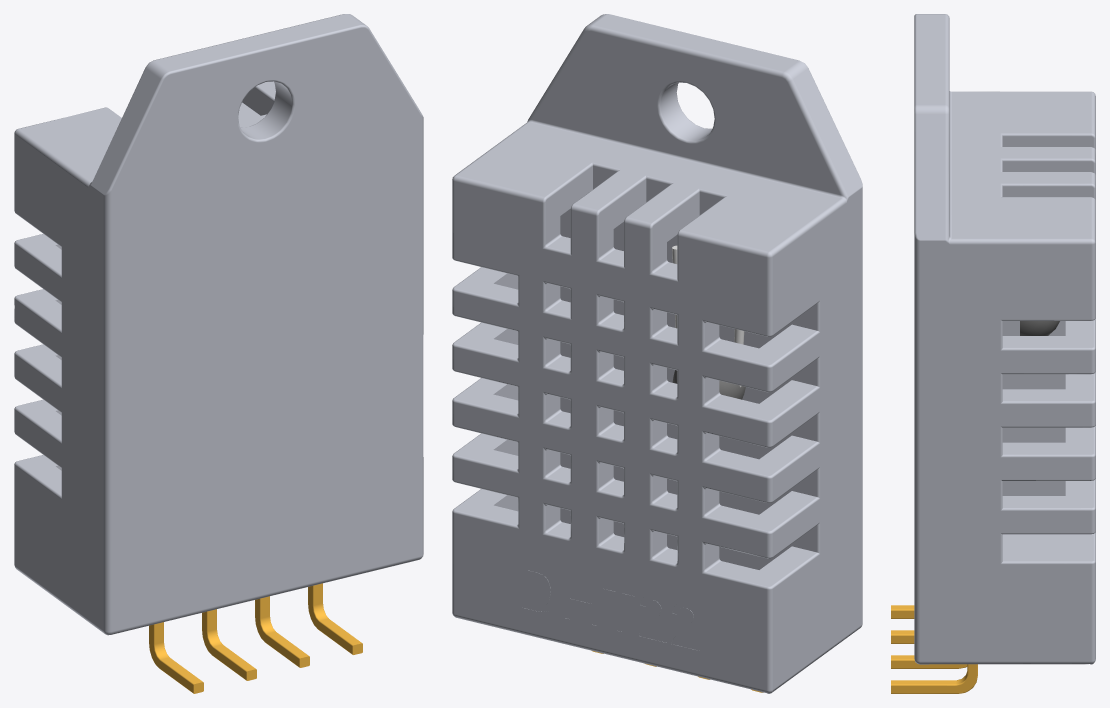
The model's file is dht22.glb.
3 views of the same model, side by side, from view 1: azimuth 30°, elevation 25°; view 2: azimuth 150°, elevation 25°; view 3: azimuth 270°, elevation 25° (orthographic). The views are drawn at different scales.
Size of the model in its own units: 1.53 by 2.82 by 0.88.
